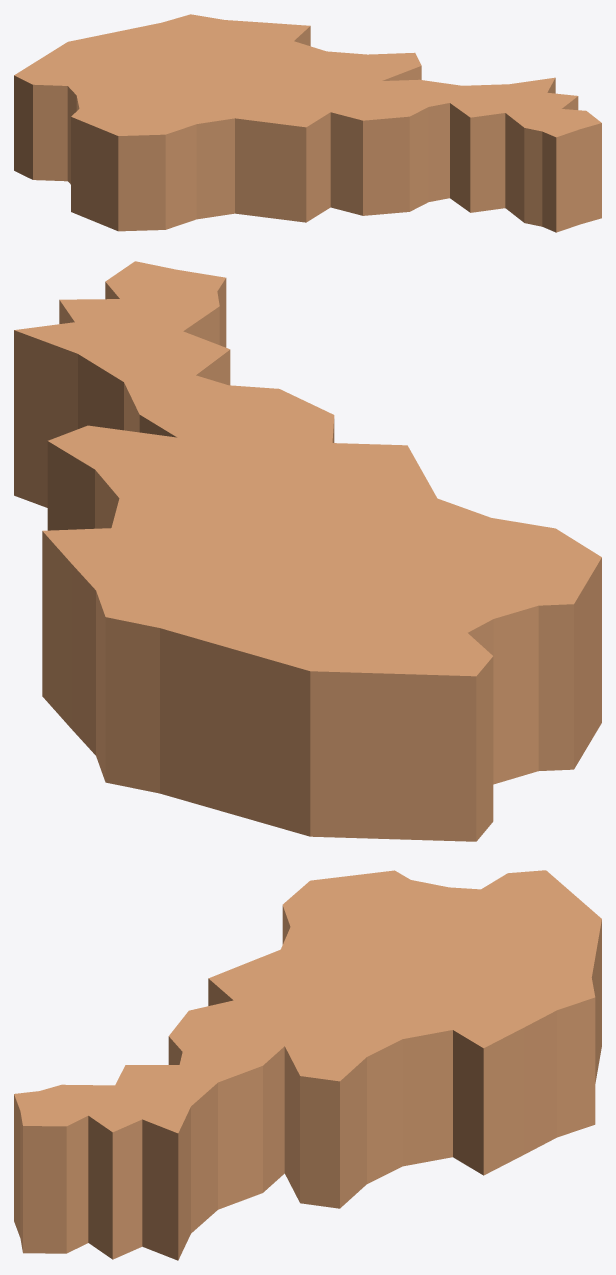
Rendered from Armenia.fbx.
3 views of the same model, one above another, from view 1: azimuth 30°, elevation 25°; view 2: azimuth 150°, elevation 25°; view 3: azimuth 270°, elevation 25° (orthographic). The views are drawn at different scales.
Visible parts, largest first — view 1: Armenia; view 2: Armenia; view 3: Armenia.
Part boxes in pixels (bbox=[...]): Armenia: bbox=[14, 14, 601, 232]; Armenia: bbox=[14, 261, 601, 841]; Armenia: bbox=[14, 870, 601, 1260].
Size of the model in its own units: 5.81 by 1.31 by 5.48.
